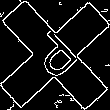P_SE: (25, 24, 85, 86)
